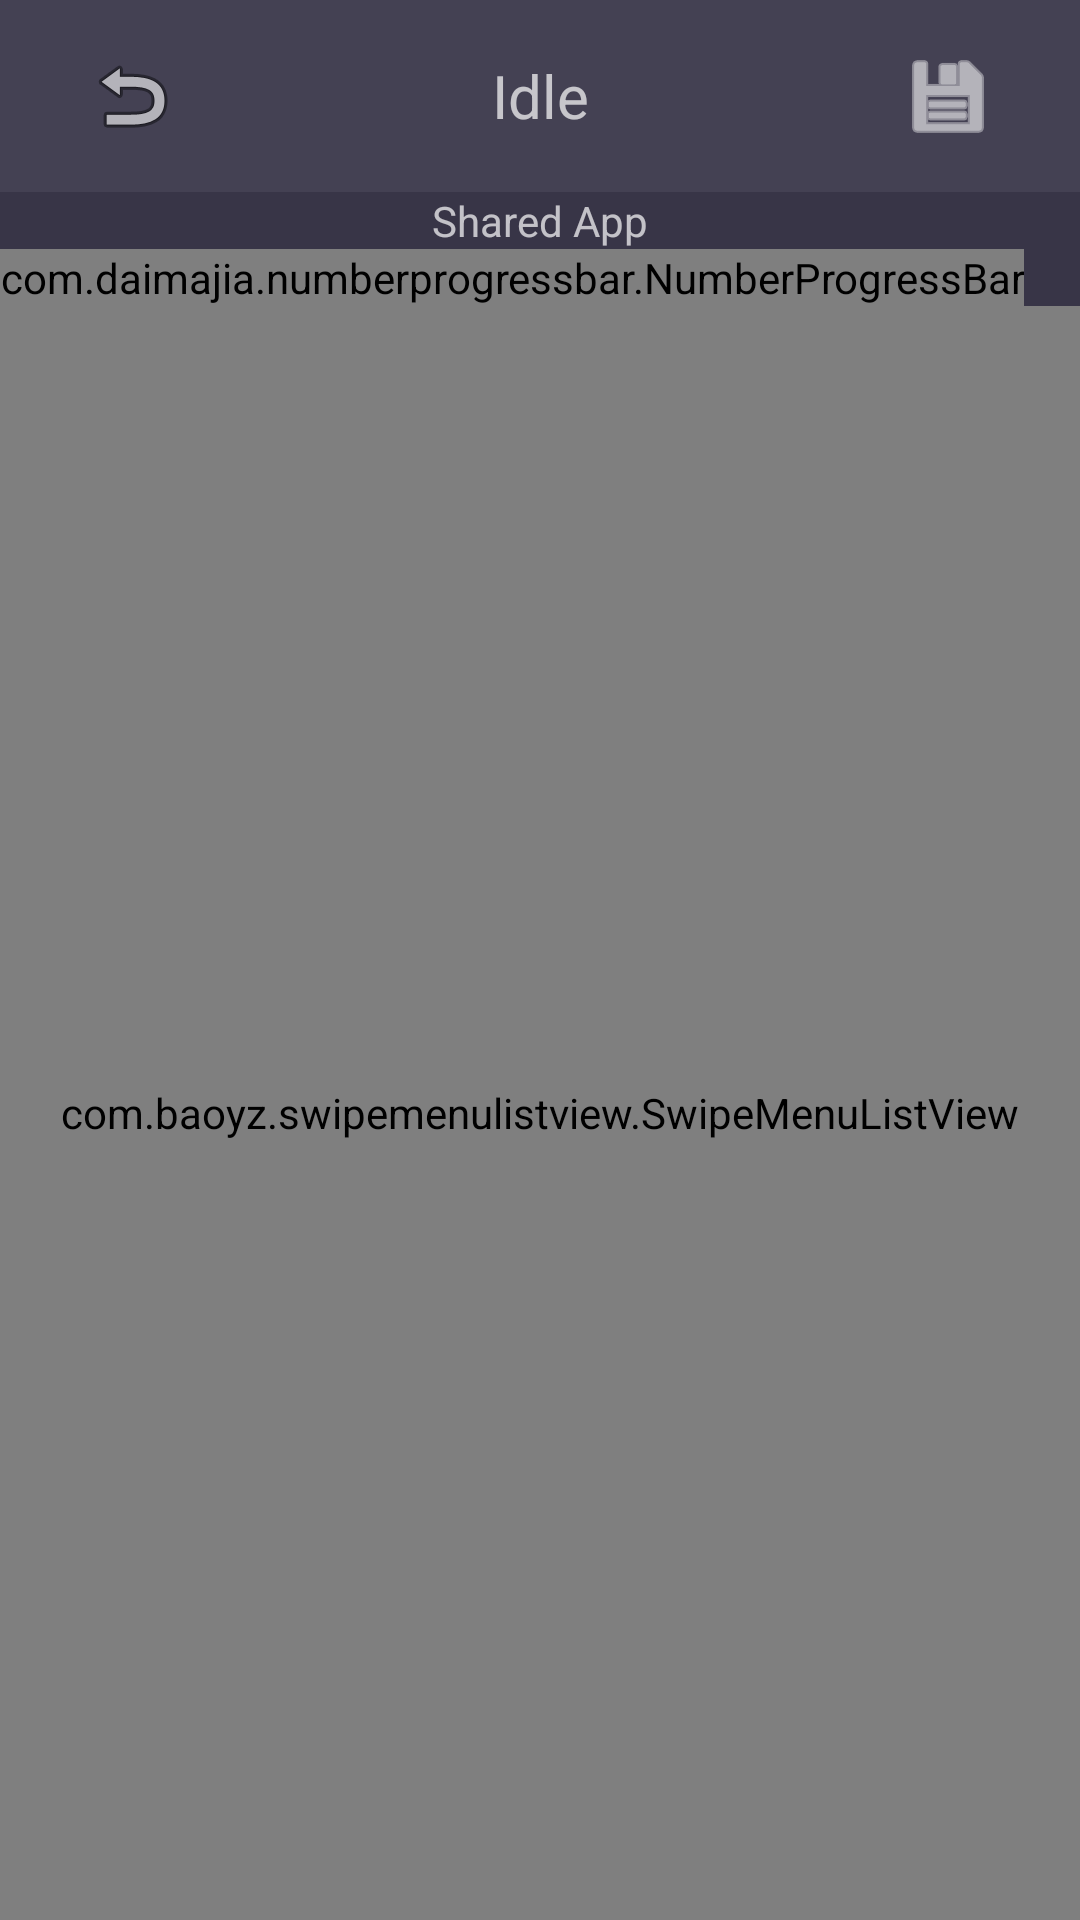

Locate icon controls on the screen. Image size 1080 x 1920, boxes as (x1, y1, x2, y2).
revert: (99, 66, 167, 127)
save: (912, 60, 984, 133)
